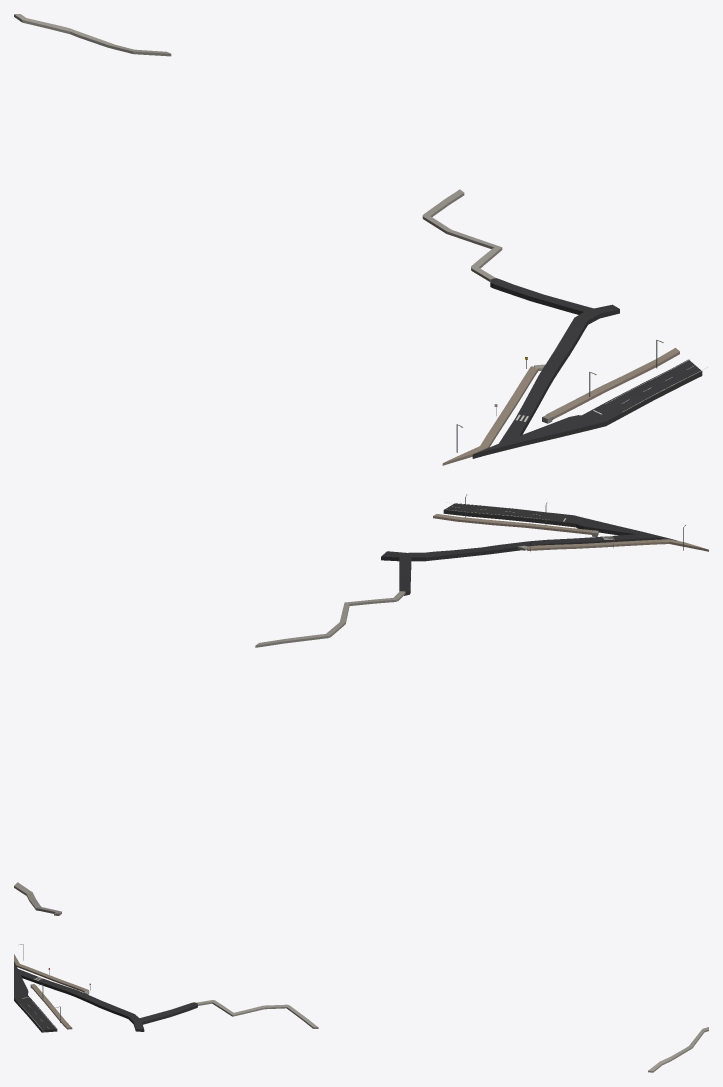
3 renders of one model, top to bottom at view 1: azimuth 30°, elevation 25°; view 2: azimuth 150°, elevation 25°; view 3: azimuth 270°, elevation 25°, orthographic. The views are drawn at different scales.
Bounding box in the file's own units: 81.06 × 26.86 × 292.
